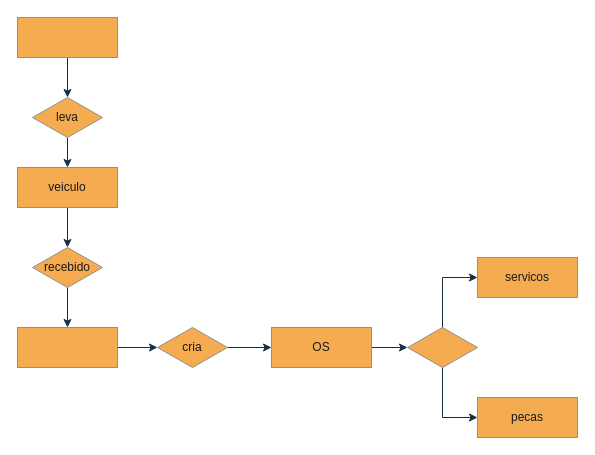
Image size: 595x455. Some labels were removed from this diagram. The centre of each missing label's shape, as x and y in pixels:
"cliente" goes at point 67,37.
"equipe" goes at point 67,347.
"possui" goes at point 442,347.
